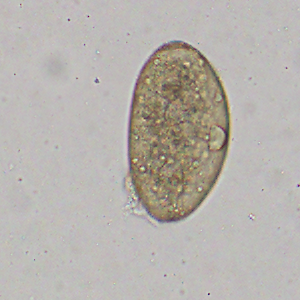Fasciola_hepatica_egg: (127, 39, 231, 223)
